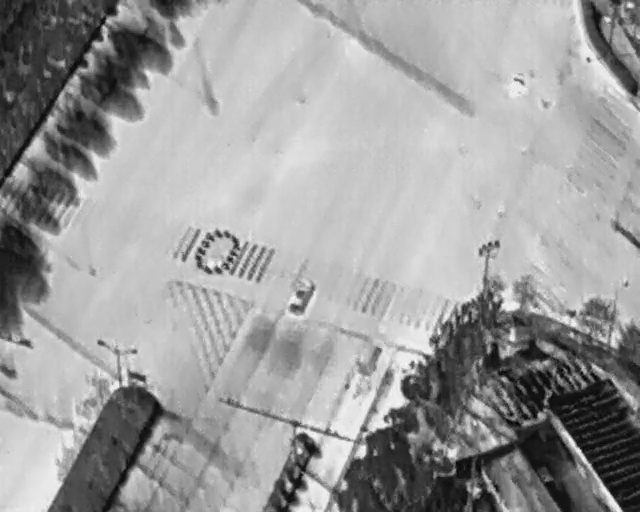Car: (286, 273, 320, 317)
